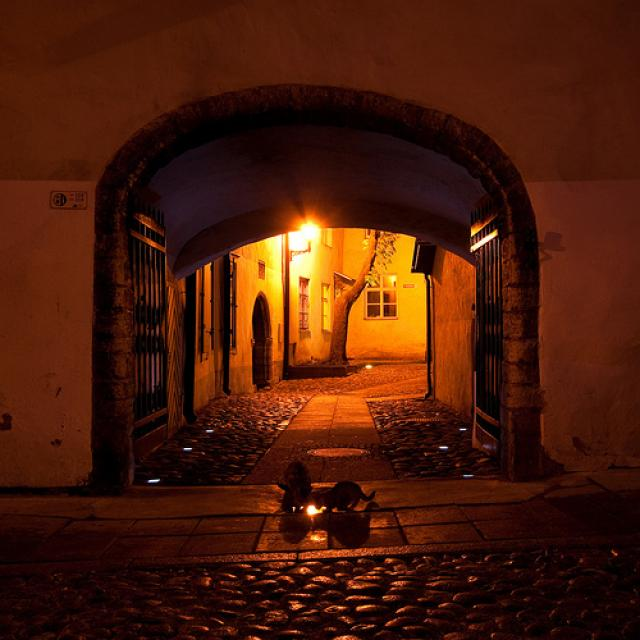Cat: (298, 468, 410, 539), (277, 447, 307, 517)
